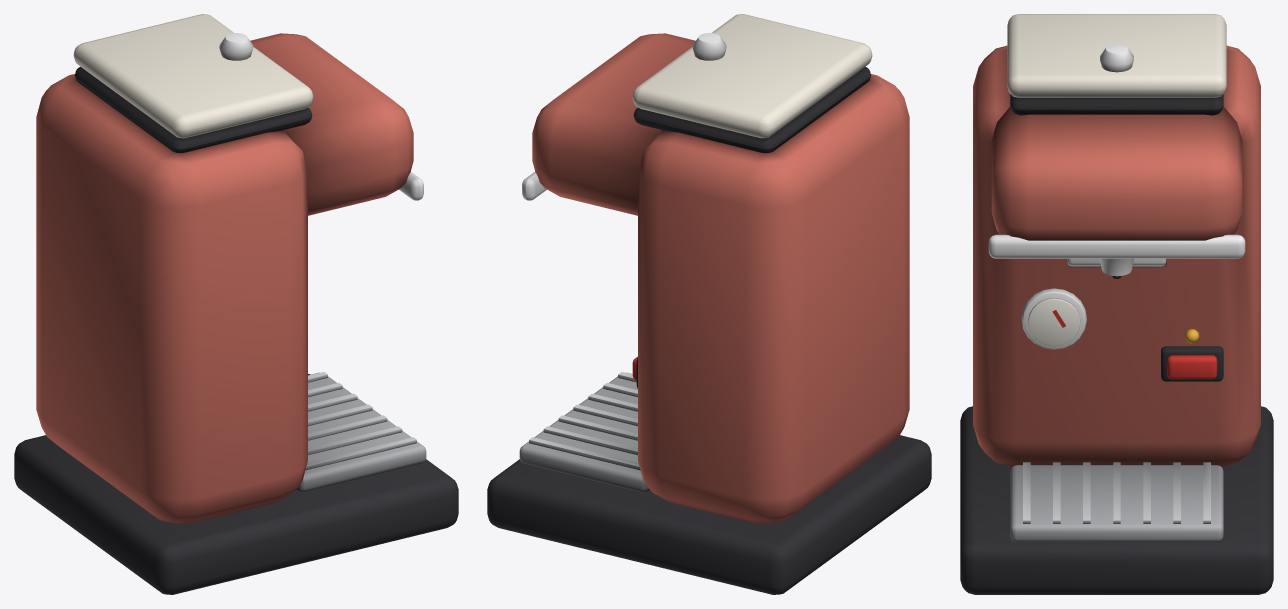
File: nd_coffee_machine.glb
3 renders of one model, left to right at view 1: azimuth 30°, elevation 25°; view 2: azimuth 150°, elevation 25°; view 3: azimuth 270°, elevation 25°, orthographic.
Visible parts, largest first — view 1: PART, LID; view 2: PART, LID; view 3: PART, LID, BUTTON_power.
Boxes of the visible parts, x1,y1,x2,y2 form: PART: [14, 33, 458, 594]; LID: [73, 14, 313, 138]; PART: [487, 33, 931, 594]; LID: [632, 14, 872, 138]; PART: [960, 45, 1273, 594]; LID: [1007, 14, 1226, 97]; BUTTON_power: [1167, 355, 1217, 379].
Size of the model in its own units: 0.28 by 0.421 by 0.25.
